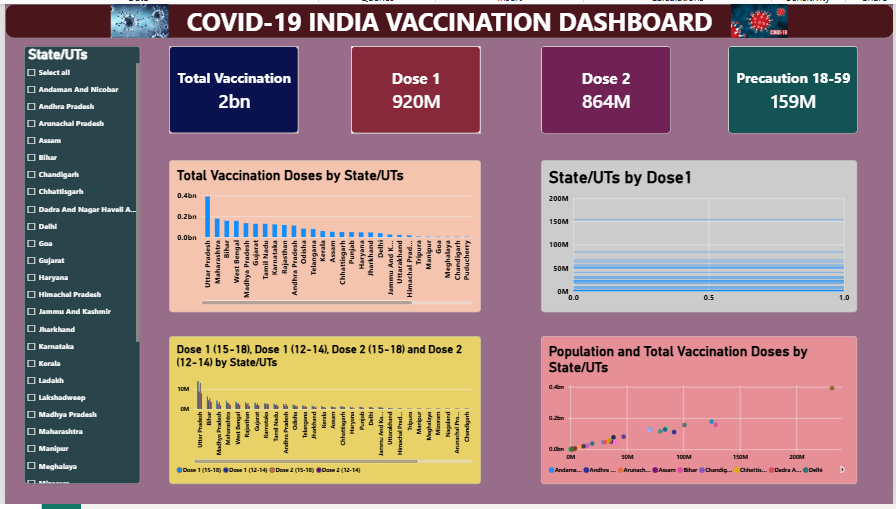

This screenshot's page, from the dashboard's own definition file:
{"tool":"powerbi","page":{"name":"Page 1","canvas":[1920,1080],"ordinal":0},"visuals":[{"type":"cardVisual","fields":{"Data":["Sum(COVID-19 India Statewise Vaccine Data.Total Vaccination Doses)"]},"box":[354,91,280.3,189.3],"z":0},{"type":"cardVisual","fields":{"Data":["Sum(COVID-19 India Statewise Vaccine Data.Dose1)"]},"box":[747.3,91,280.3,189.3],"z":1},{"type":"cardVisual","fields":{"Data":["Sum(COVID-19 India Statewise Vaccine Data.Dose 2)"]},"box":[1157.9,91,280.3,189.3],"z":2},{"type":"cardVisual","fields":{"Data":["Sum(COVID-19 India Statewise Vaccine Data.Precaution 18-59)"]},"box":[1561.1,91,280.3,189.3],"z":3},{"type":"clusteredColumnChart","fields":{"Category":["COVID-19 India Statewise Vaccine Data.State/UTs"],"Y":["Sum(COVID-19 India Statewise Vaccine Data.Total Vaccination Doses)"]},"box":[354,336.8,673.6,329.4],"z":4},{"type":"clusteredBarChart","fields":{"Category":["COVID-19 India Statewise Vaccine Data.Dose1","COVID-19 India Statewise Vaccine Data.Dose 2"],"Y":["CountNonNull(COVID-19 India Statewise Vaccine Data.State/UTs)"]},"box":[1157.9,336.8,683.4,329.4],"z":5},{"type":"clusteredColumnChart","fields":{"Category":["COVID-19 India Statewise Vaccine Data.State/UTs"],"Y":["Sum(COVID-19 India Statewise Vaccine Data.Dose 1 15-18)","Sum(COVID-19 India Statewise Vaccine Data.Dose 1 12-14)","Sum(COVID-19 India Statewise Vaccine Data.Dose 2 15-18)","Sum(COVID-19 India Statewise Vaccine Data.Dose 2 12-14)"]},"box":[354,717.8,673.6,319.6],"z":6},{"type":"scatterChart","fields":{"Series":["COVID-19 India Statewise Vaccine Data.State/UTs"],"X":["Sum(COVID-19 India Statewise Vaccine Data.Population)"],"Y":["Sum(COVID-19 India Statewise Vaccine Data.Total Vaccination Doses)"]},"box":[1157.9,717.8,683.4,319.6],"z":7},{"type":"slicer","fields":{"Values":["COVID-19 India Statewise Vaccine Data.State/UTs"]},"box":[41.8,91,250.8,946.5],"z":8},{"type":"textbox","box":[0,0,1920,73.8],"z":9},{"type":"image","box":[1540.1,0,179.3,73.4],"z":10},{"type":"image","box":[194.4,0,192.2,73.4],"z":11}]}

Visuals, with their boxes in screenshot pixels (x1, y1, x2, y2), scaled from the page's 1920x1080 canvas onto the 896x509 screenshot:
cardVisual - Sum(COVID-19 India Statewise Vaccine Data.Total Vaccination Doses): 165, 43, 296, 132
cardVisual - Sum(COVID-19 India Statewise Vaccine Data.Dose1): 349, 43, 480, 132
cardVisual - Sum(COVID-19 India Statewise Vaccine Data.Dose 2): 540, 43, 671, 132
cardVisual - Sum(COVID-19 India Statewise Vaccine Data.Precaution 18-59): 729, 43, 859, 132
clusteredColumnChart - COVID-19 India Statewise Vaccine Data.State/UTs x Sum(COVID-19 India Statewise Vaccine Data.Total Vaccination Doses): 165, 159, 480, 314
clusteredBarChart - COVID-19 India Statewise Vaccine Data.Dose1 x COVID-19 India Statewise Vaccine Data.Dose 2: 540, 159, 859, 314
clusteredColumnChart - COVID-19 India Statewise Vaccine Data.State/UTs x Sum(COVID-19 India Statewise Vaccine Data.Dose 1 15-18): 165, 338, 480, 489
scatterChart - COVID-19 India Statewise Vaccine Data.State/UTs x Sum(COVID-19 India Statewise Vaccine Data.Population): 540, 338, 859, 489
slicer - COVID-19 India Statewise Vaccine Data.State/UTs: 20, 43, 137, 489
textbox: 0, 0, 895, 35
image: 719, 0, 802, 35
image: 91, 0, 180, 35
